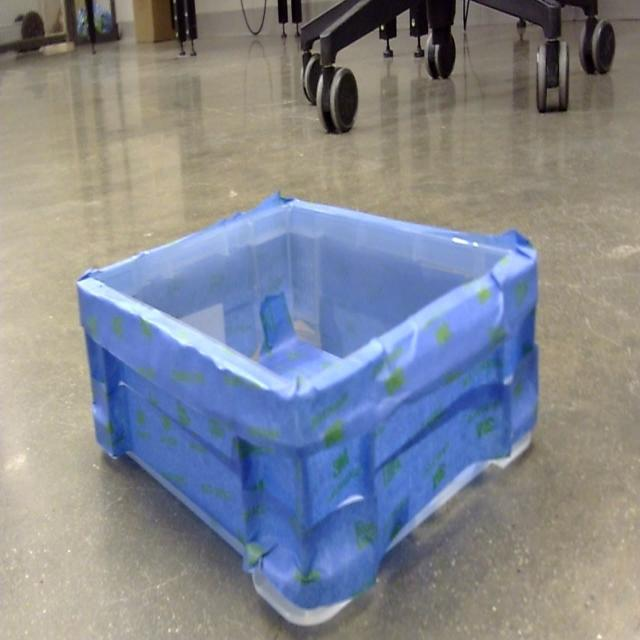bucket: (74, 194, 540, 631)
